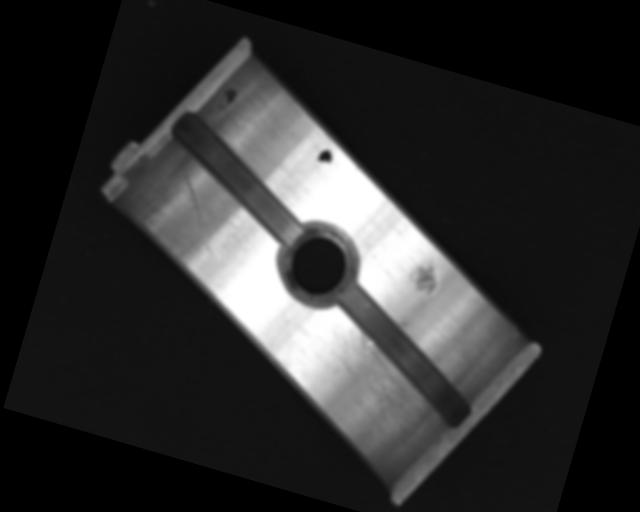blot: (218, 84, 237, 112), (315, 146, 334, 170)
bruise: (409, 253, 444, 297)
gap: (315, 279, 495, 430), (150, 108, 325, 248)
hole: (271, 213, 366, 313)
nick: (162, 167, 234, 259)
scratch: (311, 311, 449, 444)
